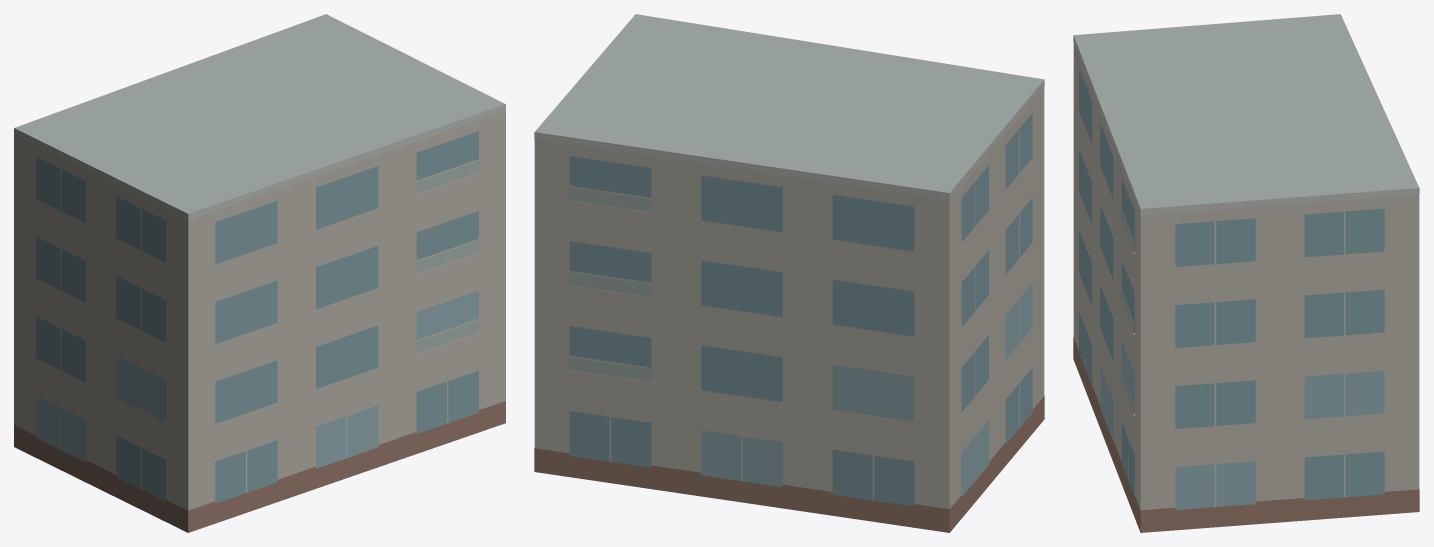
The model's file is survey-upis-32734798.glb.
The picture shows the model from 3 angles, left to right: view 1: azimuth 30°, elevation 25°; view 2: azimuth 150°, elevation 25°; view 3: azimuth 270°, elevation 25°; orthographic projection. The views are drawn at different scales.
Visible parts, largest first — view 1: survey-upis-32734798.tmp; view 2: survey-upis-32734798.tmp; view 3: survey-upis-32734798.tmp.
Boxes of the visible parts, bbox=[...] form: survey-upis-32734798.tmp: bbox=[14, 14, 505, 532]; survey-upis-32734798.tmp: bbox=[534, 14, 1044, 532]; survey-upis-32734798.tmp: bbox=[1073, 14, 1419, 532].
Size of the model in its own units: 15.62 by 12.1 by 11.72.
